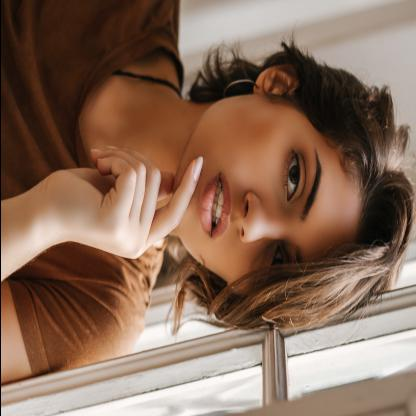Eye: (280, 148, 312, 203), (268, 245, 290, 276)
Mouth: (198, 169, 236, 243)
Nose: (235, 190, 284, 245)
